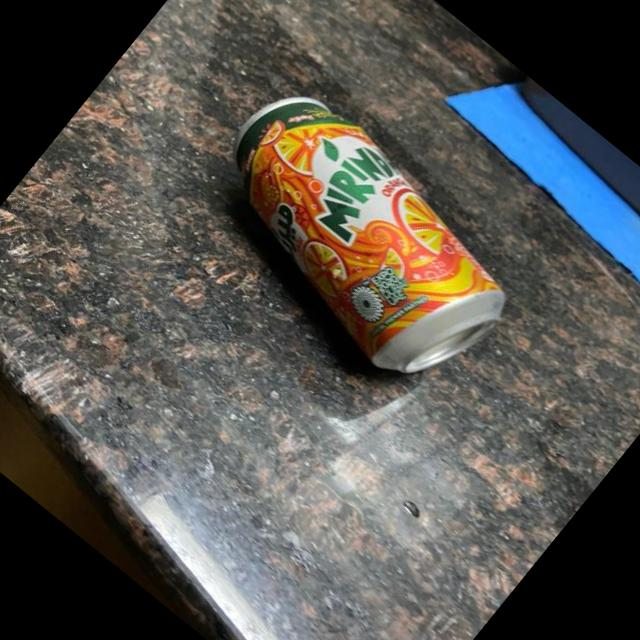Kaleng: (174, 65, 542, 411)
